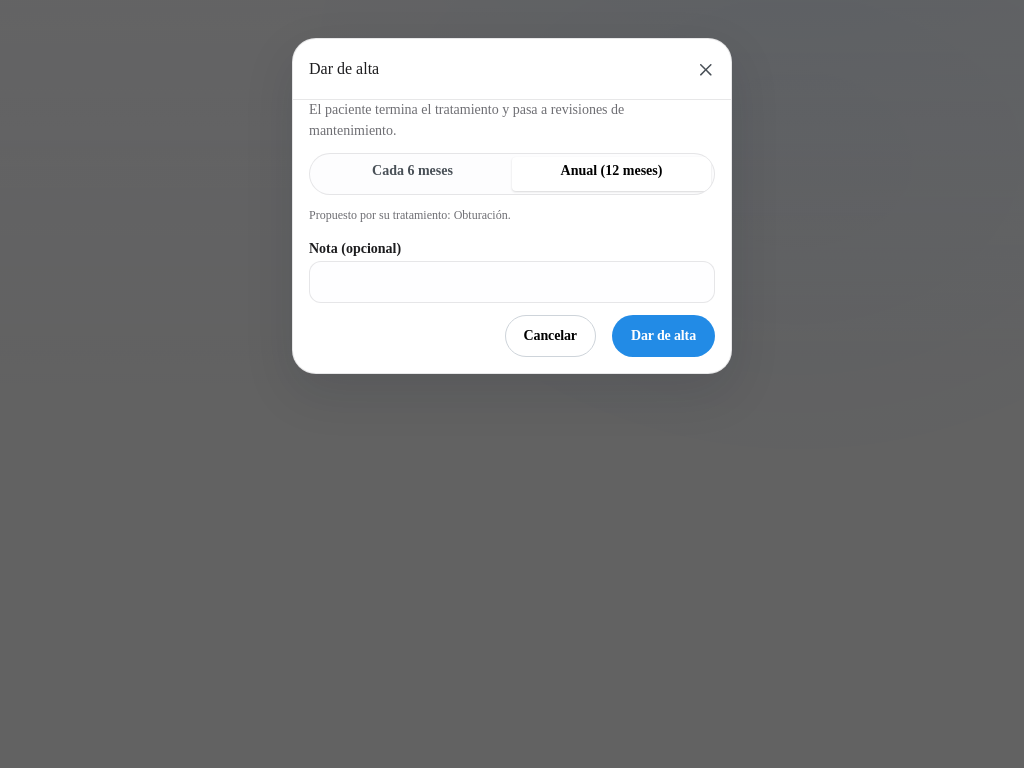
Test: dar de alta › propone el intervalo del tratamiento y avisa de dar cita al confirmar
Expected: the text "Propuesto por su tratamiento: Obturación." is shown, 309,208 -> 511,222
Expected: the radio button labelled "Anual (12 meses)" is checked, 560,163 -> 662,178
Click the button "Dar de alta" at (663, 336), box 612,315 -> 715,357
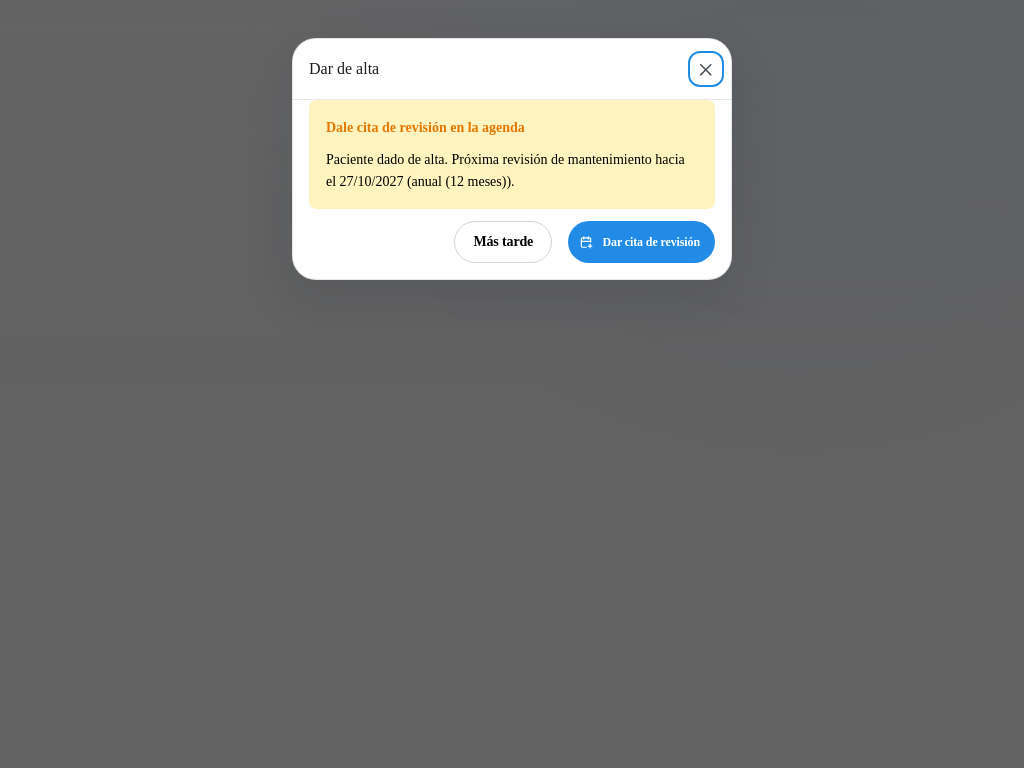
Now the text "Dale cita de revisión en la agenda" is shown, box 326,117 -> 525,139
Now the text "27/10/2027" is shown, box 340,174 -> 403,189
